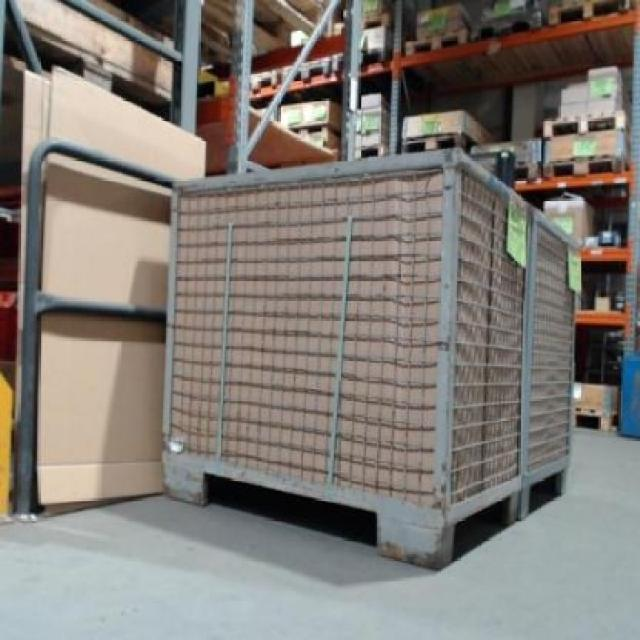pallets: (163, 149, 572, 565), (12, 137, 172, 512)
